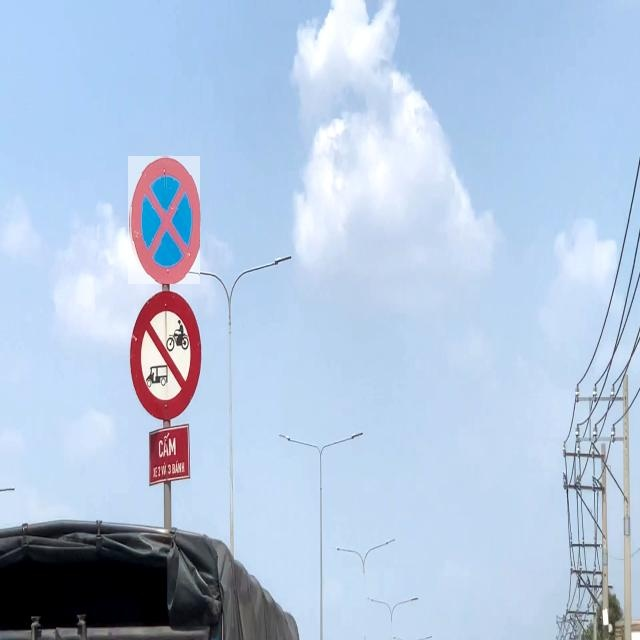bien_cam: (128, 156, 200, 284)
